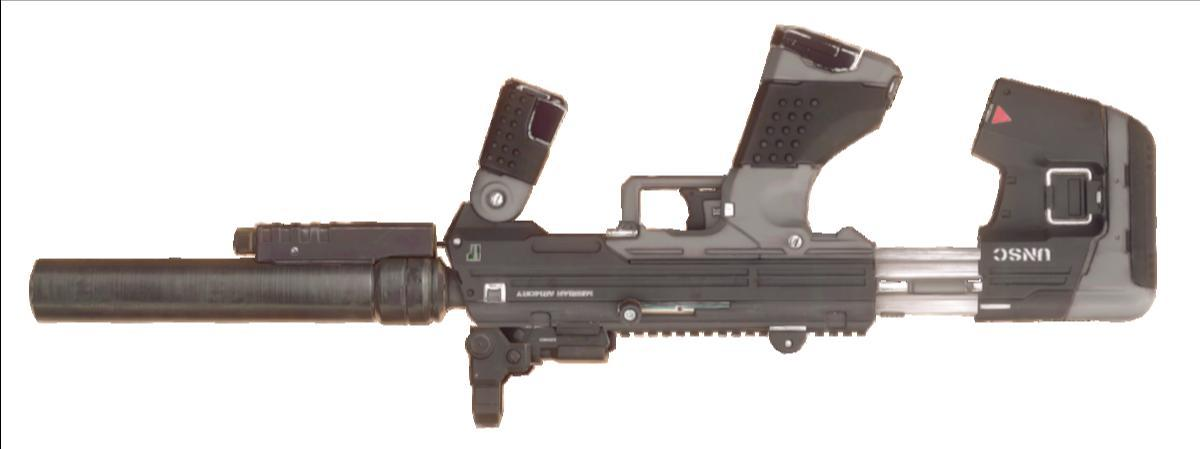gun: (29, 24, 1156, 400)
